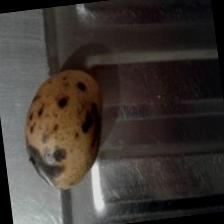Mango Overripe: (18, 66, 113, 193)
